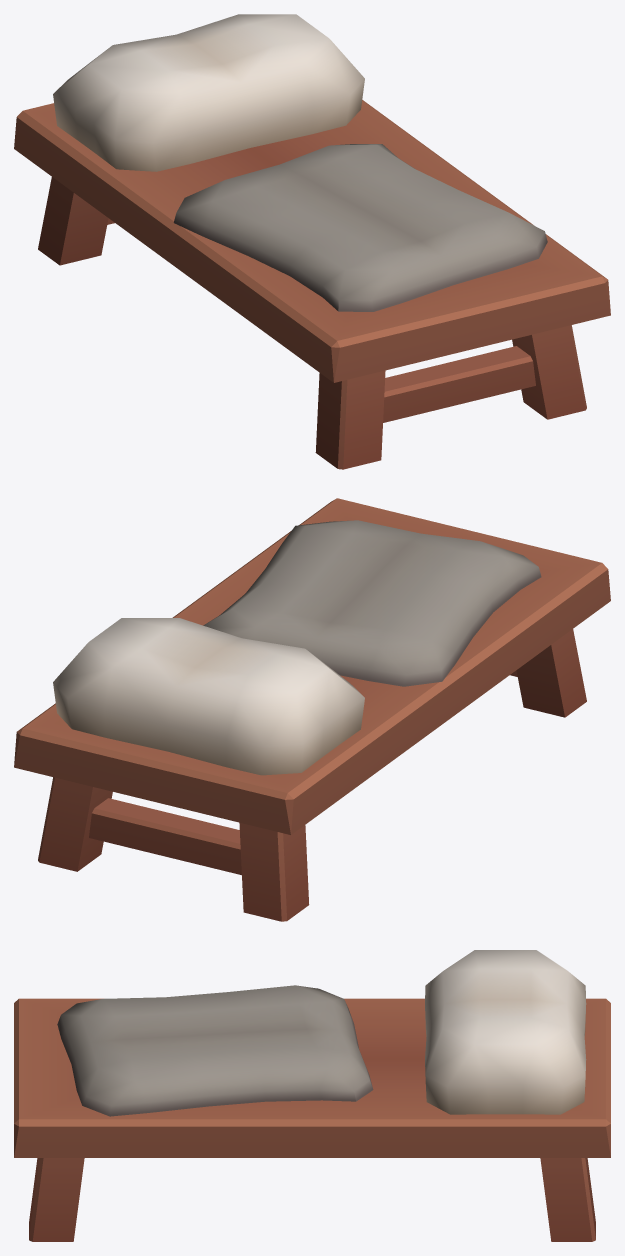
File: bed_frame.gltf
3 renders of one model, top to bottom at view 1: azimuth 30°, elevation 25°; view 2: azimuth 150°, elevation 25°; view 3: azimuth 270°, elevation 25°, orthographic. The views are drawn at different scales.
Visible parts, largest first — view 1: bed_frame; view 2: bed_frame; view 3: bed_frame.
Boxes of the visible parts, left/top/right/bottom form: bed_frame: left=14, top=14, right=610, bottom=469; bed_frame: left=14, top=498, right=610, bottom=921; bed_frame: left=14, top=950, right=610, bottom=1241.
Bounding box in the file's own units: 1.5 × 1.06 × 3.
1 material, 1 textured.
